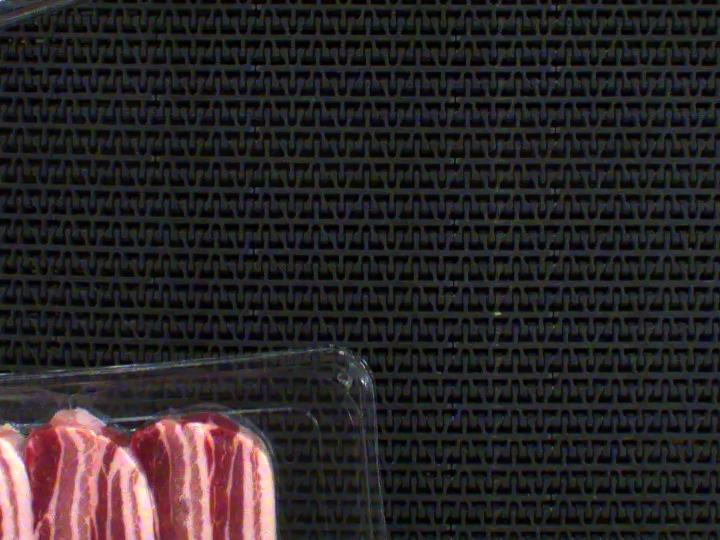unsealed: (0, 402, 290, 445)
